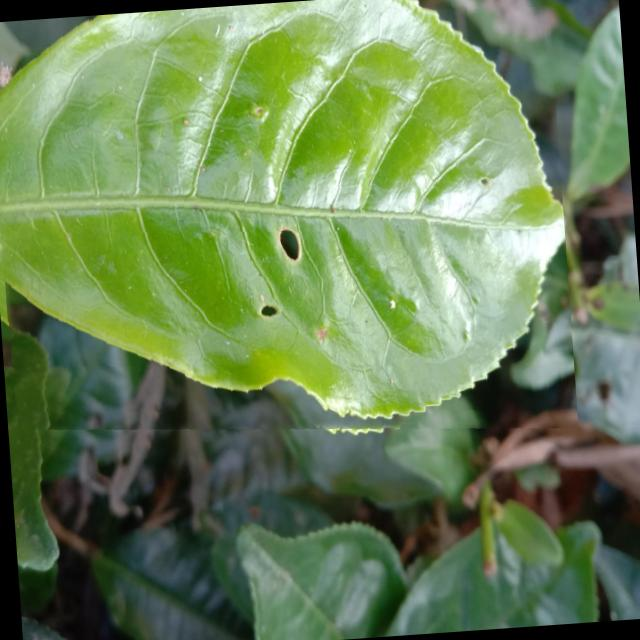Category B(2-4 days): (0, 0, 577, 468)
